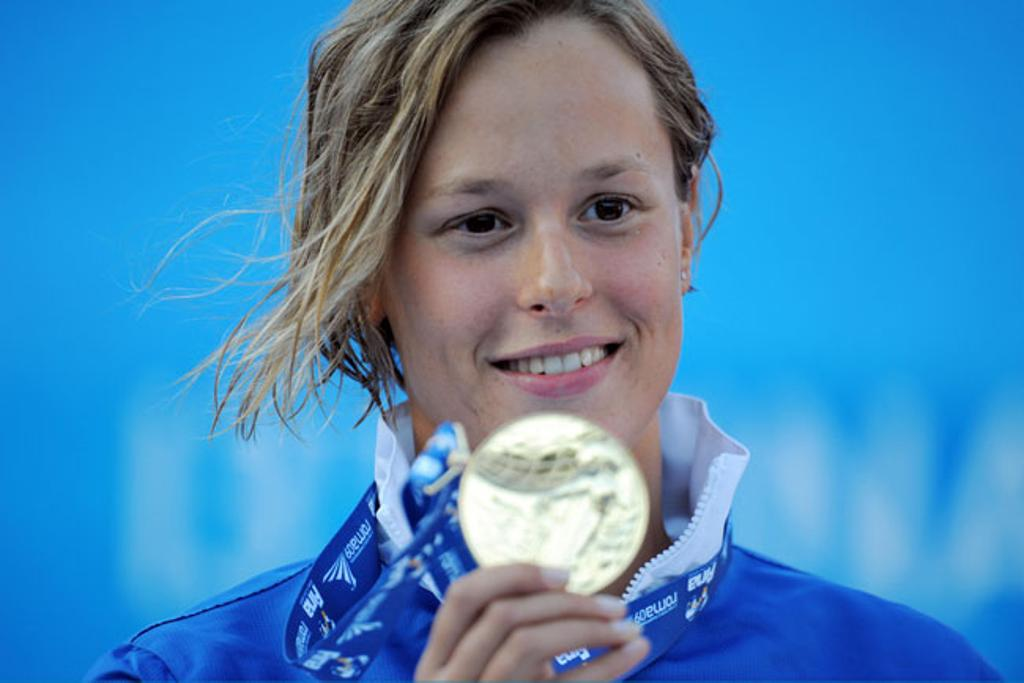face: (386, 88, 682, 460)
